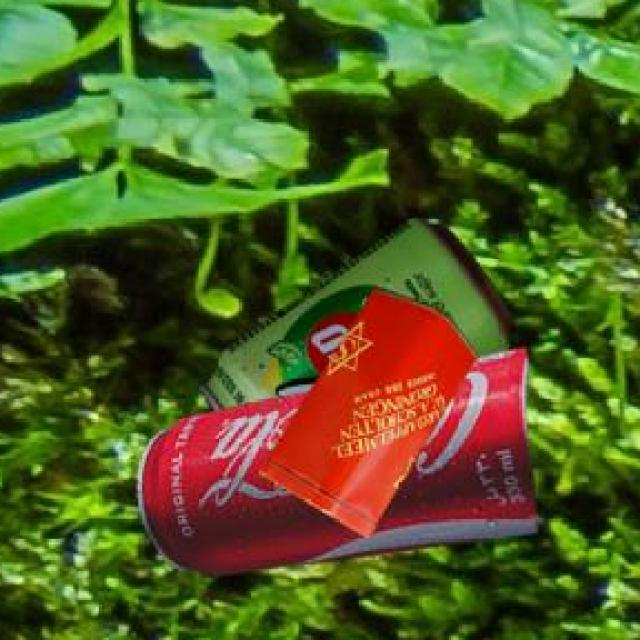logam: (141, 352, 541, 579), (203, 221, 514, 414), (263, 292, 481, 541)
